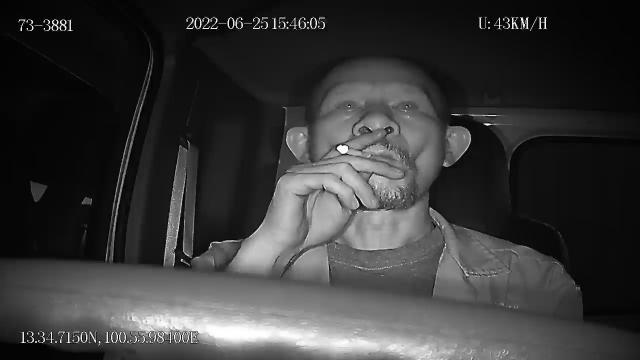SafeDriving: (389, 94, 426, 121), (351, 116, 380, 139)
Smoking: (336, 144, 374, 160)
